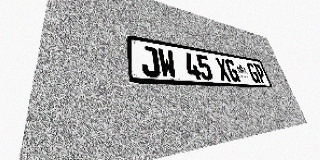4: (183, 52, 202, 80)
5: (196, 54, 214, 80)
G: (224, 59, 241, 82), (246, 62, 261, 83)
J: (139, 45, 161, 77)
P: (253, 63, 267, 83)
W: (157, 48, 177, 78)
X: (214, 57, 231, 81)
